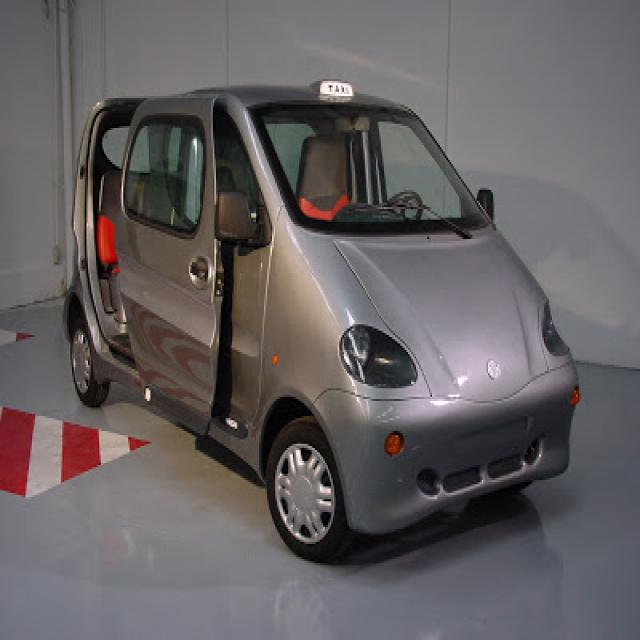Car: (57, 64, 586, 558)
